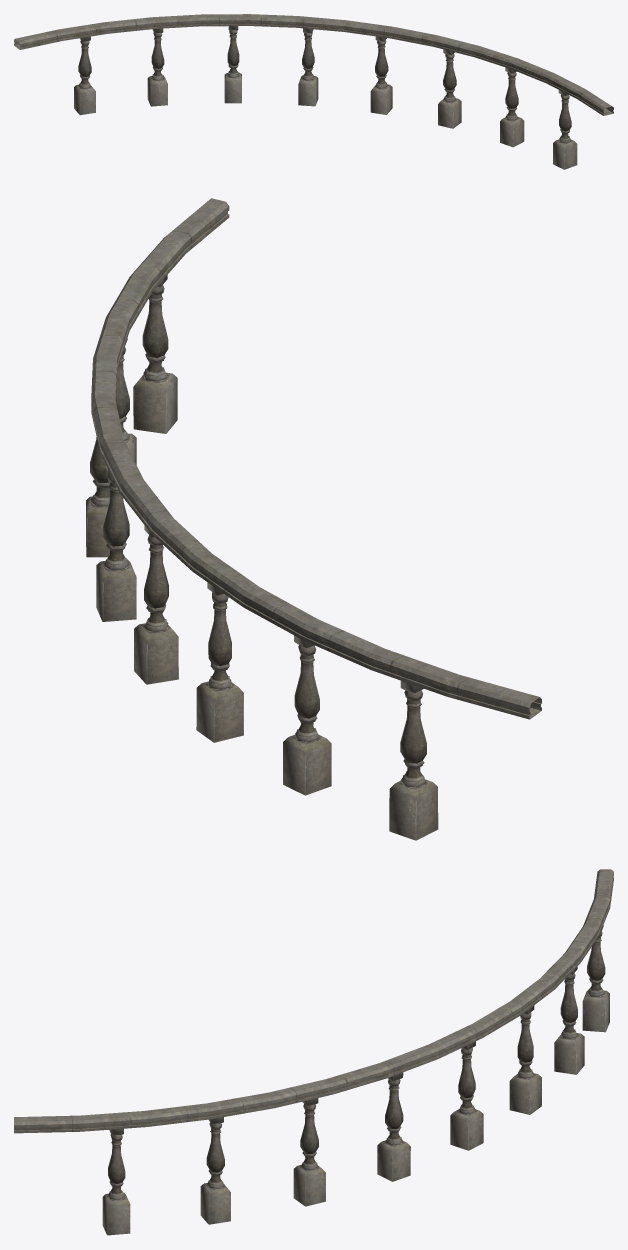
File: Railing07_1.fbx
The picture shows the model from 3 angles, top to bottom: view 1: azimuth 30°, elevation 25°; view 2: azimuth 150°, elevation 25°; view 3: azimuth 270°, elevation 25°; orthographic projection. The views are drawn at different scales.
Parts seen in each view (by area): view 1: Railing07_1; view 2: Railing07_1; view 3: Railing07_1.
Part boxes in pixels (x1,y1,x2,y2): Railing07_1: (14, 14, 613, 169); Railing07_1: (86, 198, 541, 840); Railing07_1: (14, 869, 613, 1235).
Bounding box in the file's own units: 507 × 106 × 507.
